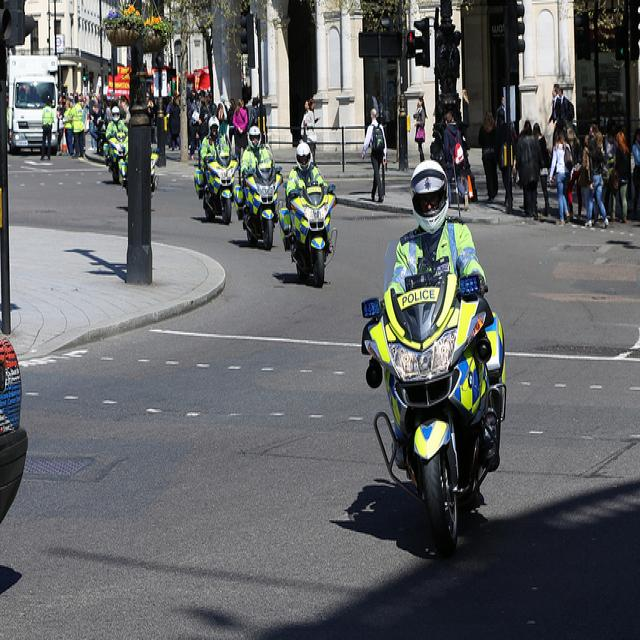motor: (360, 271, 506, 560), (279, 184, 340, 286), (233, 164, 283, 251), (193, 134, 239, 224), (103, 134, 129, 196)
